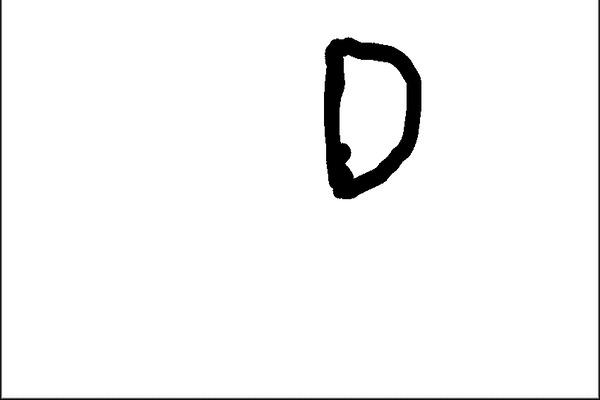D: (317, 30, 428, 204)
